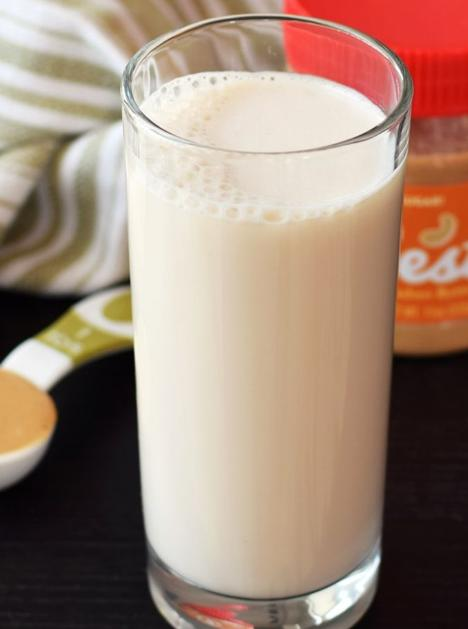produk_susu: (156, 40, 364, 606)
